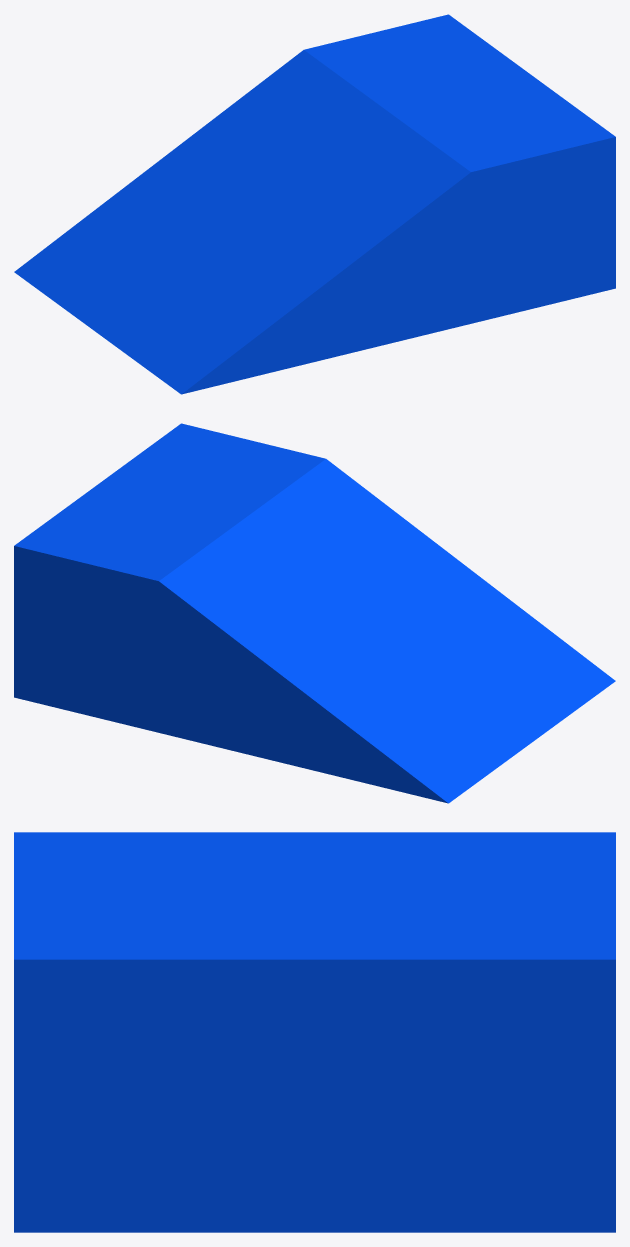
The model's file is COL_Floor-Stairs-2x2x1-Layered-Short.FBX.
3 views of the same model, one above another, from view 1: azimuth 30°, elevation 25°; view 2: azimuth 150°, elevation 25°; view 3: azimuth 270°, elevation 25° (orthographic). The views are drawn at different scales.
Visible parts, largest first — view 1: COL_Floor-Stairs-2x2x1-Layered-Short; view 2: COL_Floor-Stairs-2x2x1-Layered-Short; view 3: COL_Floor-Stairs-2x2x1-Layered-Short.
Boxes of the visible parts, x1,y1,x2,y2 form: COL_Floor-Stairs-2x2x1-Layered-Short: [14, 14, 615, 394]; COL_Floor-Stairs-2x2x1-Layered-Short: [14, 423, 615, 803]; COL_Floor-Stairs-2x2x1-Layered-Short: [14, 832, 615, 1232].
Bounding box in the file's own units: 30 × 10 × 20.
